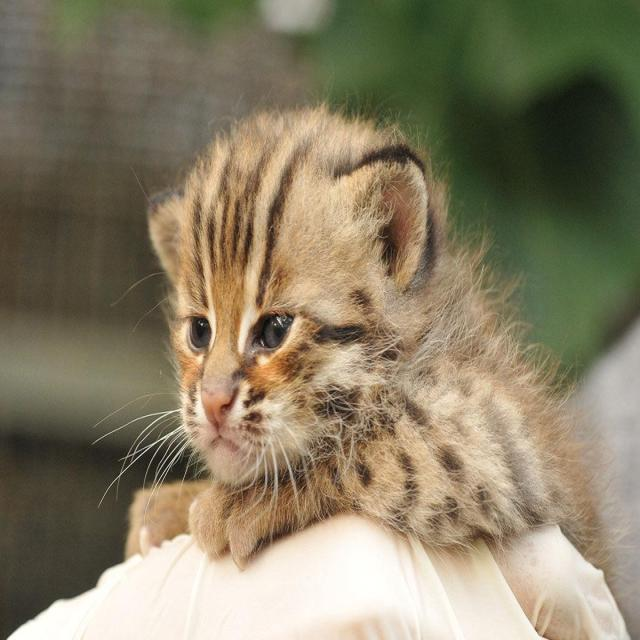leopard: (111, 48, 494, 586)
